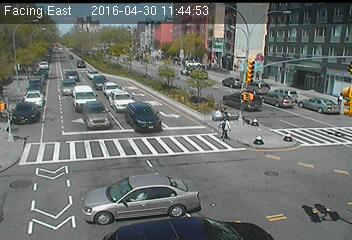neg: (242, 47, 267, 80), (113, 174, 136, 205), (306, 194, 329, 224), (311, 87, 333, 116), (80, 41, 101, 69), (126, 102, 146, 129), (15, 95, 34, 120), (75, 115, 93, 139), (16, 174, 33, 196), (252, 129, 267, 149), (167, 168, 182, 188)
pos: (218, 116, 236, 140)
